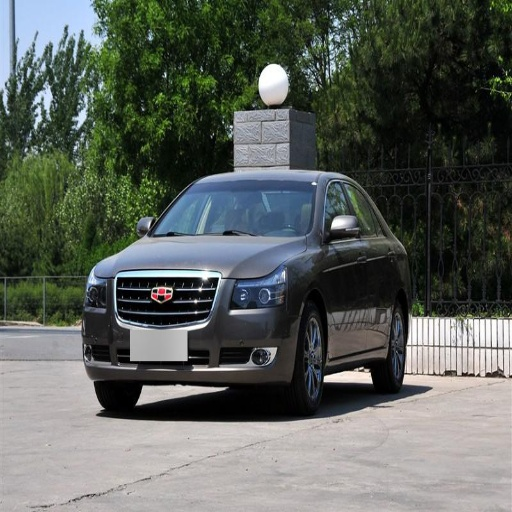front_bumper: (83, 270, 300, 382)
front_glass: (148, 180, 316, 235)
front_left_door: (321, 178, 370, 355)
